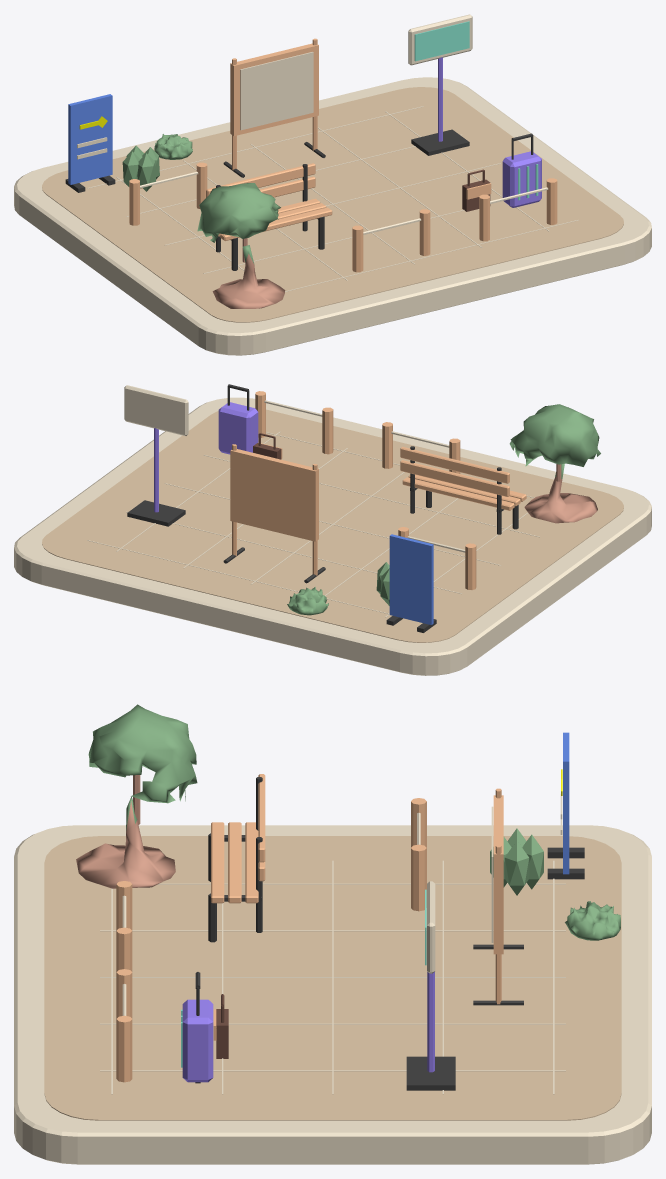
3 renders of one model, top to bottom at view 1: azimuth 30°, elevation 25°; view 2: azimuth 150°, elevation 25°; view 3: azimuth 270°, elevation 25°, orthographic. The views are drawn at different scales.
Visible parts, largest first — view 1: COM-02 Floor Surface, COM-01 Rounded Base Direct, 잎이 넓은 작은 나무, Art surface, Panel, Frame, Shell, Inset, Sign panel, Foot.002, Back slat.001, 넓은 잎 풀 포기 (+9 smaller); view 2: COM-02 Floor Surface, COM-01 Rounded Base Direct, Frame, 잎이 넓은 작은 나무, Panel, Sign panel, Shell, Back slat, Back slat.001, Seat slat.002, Foot.002, 넓은 잎 풀 포기 (+5 smaller); view 3: COM-02 Floor Surface, COM-01 Rounded Base Direct, 잎이 넓은 작은 나무, Shell, Frame, 넓은 잎 풀 포기, Foot.002, Seat slat, Seat slat.001, Boundary post.003, Boundary post.005, Panel (+14 smaller).
Boxes of the visible parts, left/top/right/bottom form: COM-02 Floor Surface: left=42, top=87, right=623, bottom=322; COM-01 Rounded Base Direct: left=14, top=77, right=651, bottom=355; 잎이 넓은 작은 나무: left=197, top=183, right=285, bottom=308; Art surface: left=240, top=52, right=313, bottom=130; Panel: left=68, top=94, right=112, bottom=184; Frame: left=230, top=43, right=318, bottom=136; Shell: left=502, top=151, right=541, bottom=207; Inset: left=414, top=21, right=469, bottom=61; Sign panel: left=408, top=14, right=472, bottom=65; Foot.002: left=411, top=129, right=469, bottom=155; Back slat.001: left=206, top=163, right=315, bottom=197; 넓은 잎 풀 포기: left=154, top=134, right=192, bottom=159; COM-02 Floor Surface: left=42, top=407, right=623, bottom=642; COM-01 Rounded Base Direct: left=14, top=397, right=651, bottom=675; Frame: left=230, top=449, right=318, bottom=541; 잎이 넓은 작은 나무: left=509, top=404, right=600, bottom=523; Panel: left=389, top=534, right=433, bottom=624; Sign panel: left=124, top=385, right=188, bottom=435; Shell: left=218, top=402, right=258, bottom=454; Back slat: left=400, top=460, right=509, bottom=496; Back slat.001: left=400, top=446, right=509, bottom=483; Seat slat.002: left=402, top=477, right=514, bottom=510; Foot.002: left=127, top=500, right=185, bottom=526; 넓은 잎 풀 포기: left=287, top=587, right=328, bottom=615; COM-02 Floor Surface: left=44, top=836, right=621, bottom=1120; COM-01 Rounded Base Direct: left=14, top=825, right=651, bottom=1164; 잎이 넓은 작은 나무: left=76, top=704, right=197, bottom=888; Shell: left=182, top=999, right=213, bottom=1082; Frame: left=493, top=795, right=503, bottom=954; 넓은 잎 풀 포기: left=565, top=901, right=620, bottom=940; Foot.002: left=406, top=1056, right=455, bottom=1090; Seat slat: left=211, top=822, right=224, bottom=903; Seat slat.001: left=228, top=822, right=241, bottom=903; Boundary post.003: left=116, top=1015, right=132, bottom=1082; Boundary post.005: left=411, top=844, right=426, bottom=911; Panel: left=563, top=732, right=569, bottom=874.
Bounding box in the file's own units: 6 × 1.87 × 5.2.
Materials: 1 (1 with a texture image).
